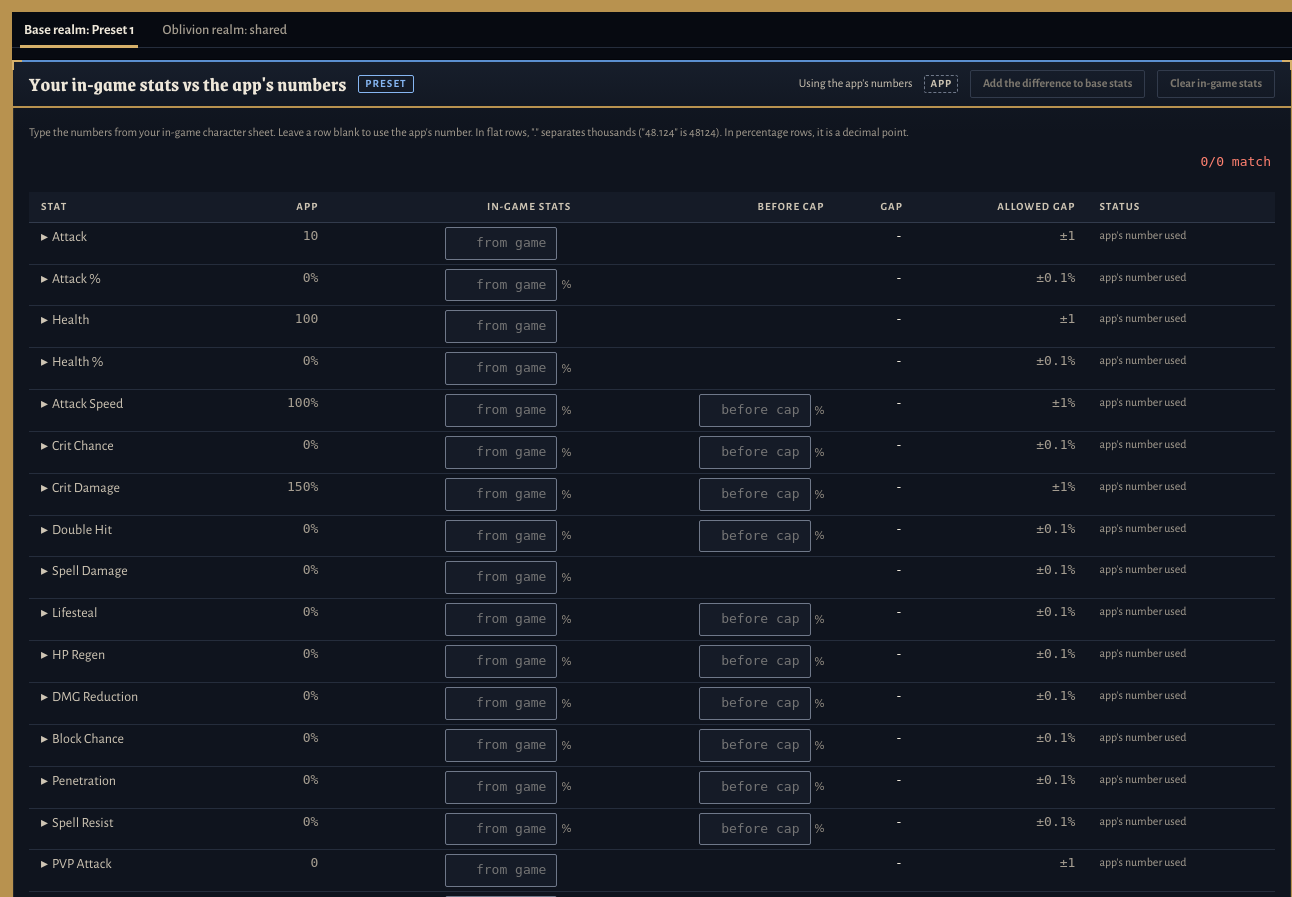
Scenario: a row expands to the model value split by source, with the interaction remainder
Click the button with class "expand" showing "▸ Attack" at {"x": 64, "y": 237}, box x1=41 y1=227 x2=87 y2=247
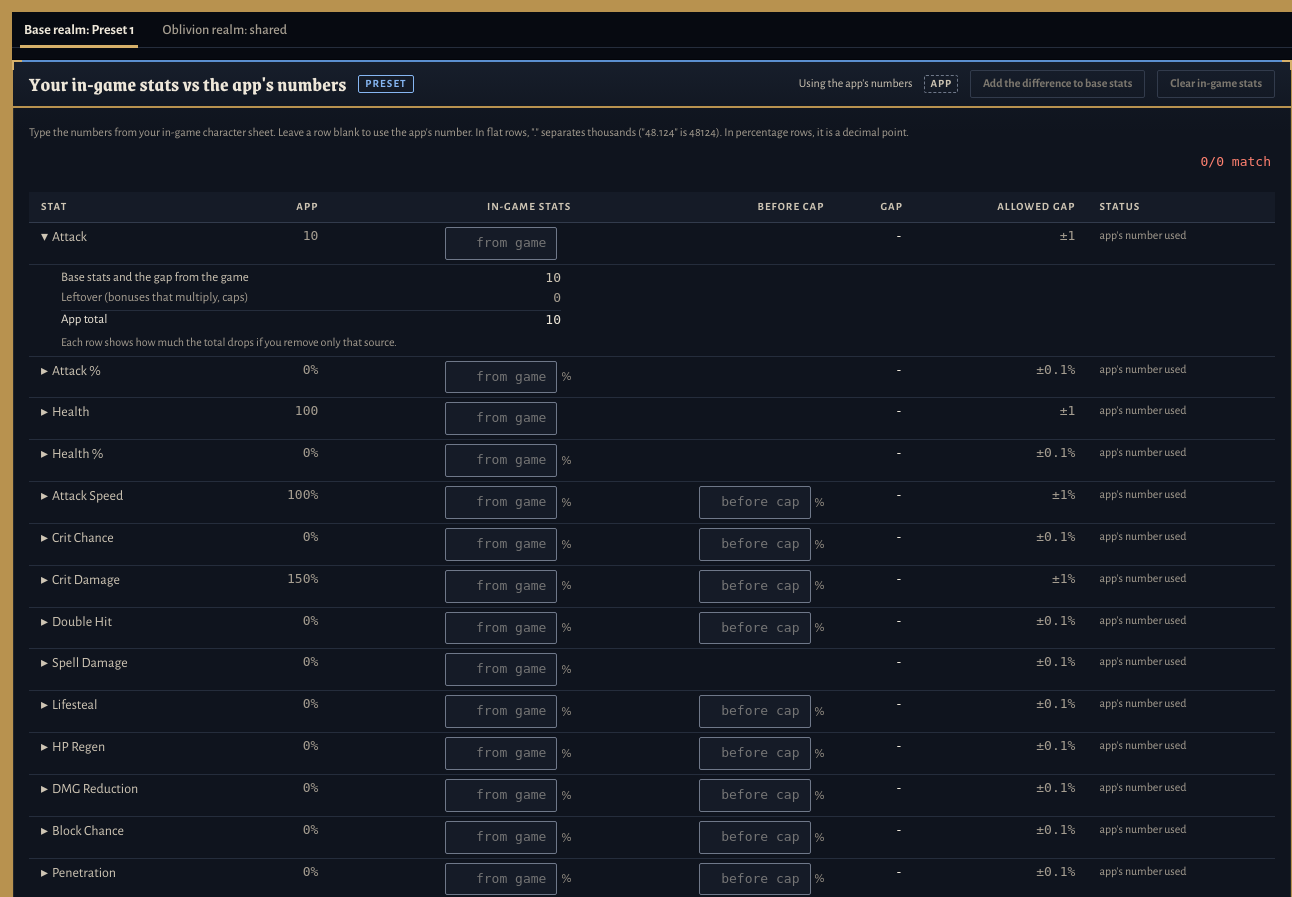
Result: the row with id "src-totalAttack" shows "Base stats" at x1=61 y1=271 x2=249 y2=284
Result: the row with id "src-totalAttack" shows "Leftover" at x1=61 y1=291 x2=248 y2=304
Result: the row with id "src-totalAttack" shows "App total" at x1=61 y1=313 x2=107 y2=326
